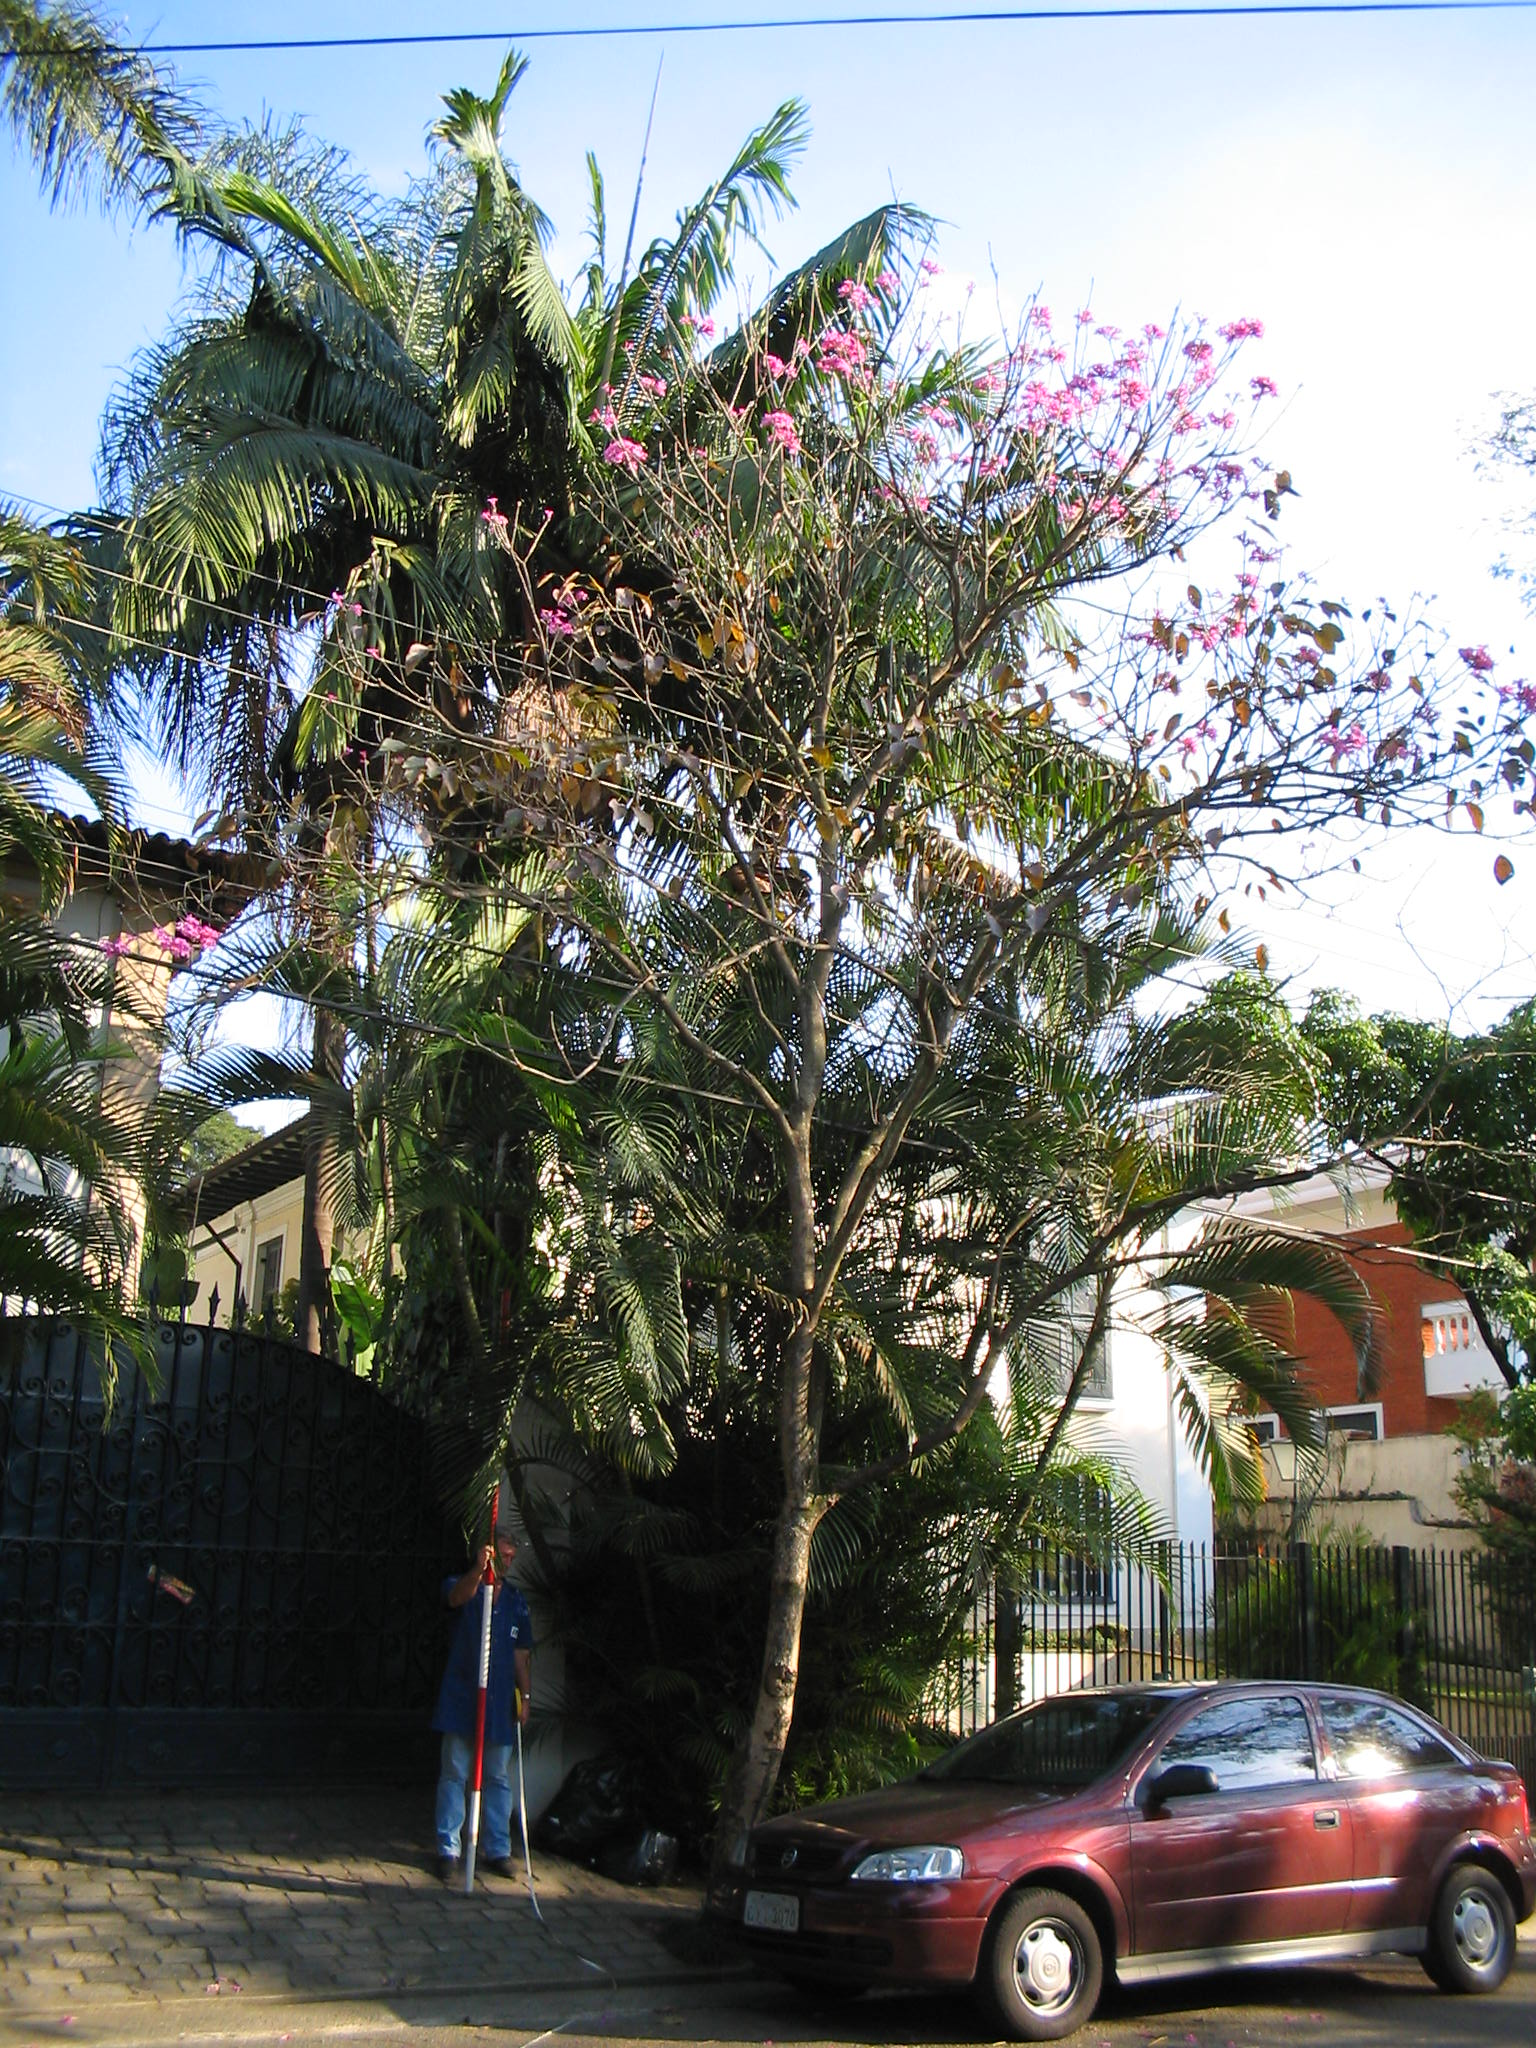crown: (315, 253, 1536, 1271)
stem: (653, 1490, 862, 1940)
stick: (428, 1295, 537, 1901)
tree: (303, 245, 1530, 1945)
